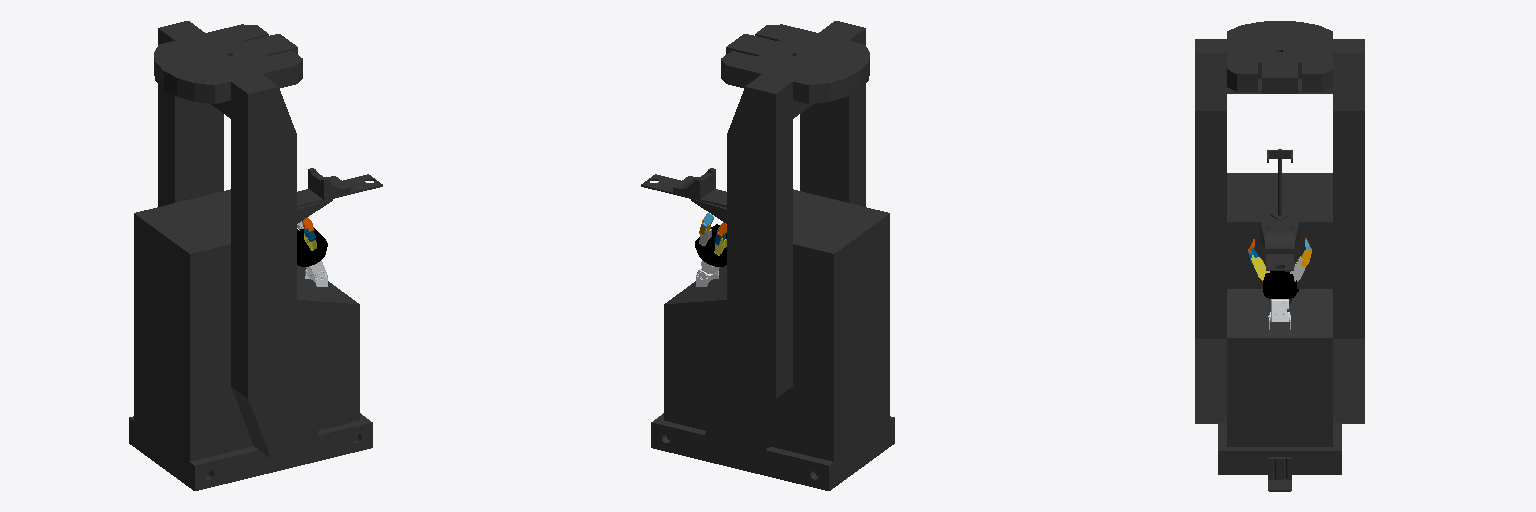
--- Facts derived from the render (not from the file) ---
Views: 3 orthographic renders of the robot side by side, from view 1: azimuth 30°, elevation 25°; view 2: azimuth 150°, elevation 25°; view 3: azimuth 270°, elevation 25°.
Model hera with 40 links and 39 joints (14 revolute, 25 fixed), rooted at base_footprint, posed all joints at 0.
Visible links, largest first — view 1: base_link, palm; view 2: base_link, palm; view 3: base_link, palm.
Link boxes in pixels (x1,y1,x2,y2): base_link: (129,21,382,490); palm: (297,228,327,266); base_link: (641,21,894,490); palm: (695,224,726,266); base_link: (1195,21,1364,491); palm: (1263,271,1298,298).
Bounding box of the posed robot: 0.596 × 0.436 × 1.07 m (x, y, z).
20 mesh visuals loaded from 24 distinct referenced files (7 binary STL, 5 Collada DAE); not drawn: 14 (reference not matched to a file when rendering).

The robot description file, URDF, robot "hera":
<?xml version="1.0" encoding="utf-8"?>
<!-- =================================================================================== -->
<!-- |    This document was autogenerated by xacro from hera_full.urdf.xacro           | -->
<!-- |    EDITING THIS FILE BY HAND IS NOT RECOMMENDED                                 | -->
<!-- =================================================================================== -->
<robot name="hera" xmlns:controller="http://playerstage.sourceforge.net/gazebo/xmlschema/#controller" xmlns:interface="http://playerstage.sourceforge.net/gazebo/xmlschema/#interface" xmlns:sensor="http://playerstage.sourceforge.net/gazebo/xmlschema/#sensor">
  <!-- <xacro:arg name="prefix" default="" /> -->
  <!-- ##################################################################### -->
  <!-- ######################### includes ################################## -->
  <!-- ##################################################################### -->
  <!-- colors -->
  <material name="black">
    <color rgba="0.0 0.0 0.0 1.0"/>
  </material>
  <material name="dark_grey">
    <color rgba="0.25 0.25 0.25 1.0"/>
  </material>
  <material name="grey">
    <color rgba="0.5 0.5 0.5 1.0"/>
  </material>
  <material name="light_grey">
    <color rgba="0.75 0.75 0.75 1.0"/>
  </material>
  <material name="white">
    <color rgba="1.0 1.0 1.0 1.0"/>
  </material>
  <!-- Macros -->
  <!-- hera colors -->
  <gazebo reference="base">
    <material>Gazebo/Black</material>
  </gazebo>
  <gazebo reference="base_wheelFR">
    <material>Gazebo/White</material>
  </gazebo>
  <gazebo reference="base_wheelFL">
    <material>Gazebo/White</material>
  </gazebo>
  <gazebo reference="base_wheelBR">
    <material>Gazebo/White</material>
  </gazebo>
  <gazebo reference="base_wheelBL">
    <material>Gazebo/White</material>
  </gazebo>
  <gazebo reference="torso">
    <material>Gazebo/DarkGray</material>
  </gazebo>
  <gazebo reference="torso_sensor_plat">
    <material>Gazebo/DarkGray</material>
  </gazebo>
  <gazebo reference="head">
    <material>Gazebo/Gray</material>
  </gazebo>
  <!-- manip colors -->
  <gazebo reference="base_link">
    <material>Gazebo/Gray</material>
  </gazebo>
  <gazebo reference="link_1">
    <material>Gazebo/Gray</material>
  </gazebo>
  <gazebo reference="link_2">
    <material>Gazebo/Gray</material>
  </gazebo>
  <gazebo reference="link_3">
    <material>Gazebo/Gray</material>
  </gazebo>
  <gazebo reference="link_4">
    <material>Gazebo/Gray</material>
  </gazebo>
  <gazebo reference="link_5">
    <material>Gazebo/Gray</material>
  </gazebo>
  <gazebo reference="link_6">
    <material>Gazebo/Gray</material>
  </gazebo>
  <gazebo reference="palm">
    <material>Gazebo/White</material>
  </gazebo>
  <gazebo reference="tool0">
    <material>Gazebo/White</material>
  </gazebo>
  <gazebo reference="finger_1_link_0">
    <material>Gazebo/White</material>
  </gazebo>
  <gazebo reference="finger_1_link_1">
    <material>Gazebo/White</material>
  </gazebo>
  <gazebo reference="finger_1_link_2">
    <material>Gazebo/White</material>
  </gazebo>
  <gazebo reference="finger_1_link_3">
    <material>Gazebo/White</material>
  </gazebo>
  <gazebo reference="finger_2_link_0">
    <material>Gazebo/White</material>
  </gazebo>
  <gazebo reference="finger_2_link_1">
    <material>Gazebo/White</material>
  </gazebo>
  <gazebo reference="finger_2_link_2">
    <material>Gazebo/White</material>
  </gazebo>
  <gazebo reference="finger_2_link_3">
    <material>Gazebo/White</material>
  </gazebo>
  <gazebo reference="finger_middle_link_0">
    <material>Gazebo/White</material>
  </gazebo>
  <gazebo reference="finger_middle_link_1">
    <material>Gazebo/White</material>
  </gazebo>
  <gazebo reference="finger_middle_link_2">
    <material>Gazebo/White</material>
  </gazebo>
  <gazebo reference="finger_middle_link_3">
    <material>Gazebo/White</material>
  </gazebo>
  <gazebo>
    <plugin filename="libgazebo_ros_control.so" name="gazebo_ros_control"/>
  </gazebo>
  <!-- ####################################################################### -->
  <!-- ######################## robot parts ################################## -->
  <!-- ####################################################################### -->
  <!-- footprint -->
  <link name="base_footprint"/>
  <joint name="joint_base_footprint_to_base" type="fixed">
    <origin xyz="0 0 0.1"/>
    <parent link="base_footprint"/>
    <child link="base"/>
  </joint>
  <!-- base -->
  <link name="base">
    <inertial>
      <mass value="100.0"/>
      <inertia ixx="0.790833333333" ixy="0.0" ixz="0.0" iyy="2.12416666667" iyz="0.0" izz="2.83333333333"/>
    </inertial>
    <collision name="collision">
      <origin rpy="0 0 0" xyz="0 0 0"/>
      <geometry>
        <box size="0.5 0.3 0.07"/>
      </geometry>
    </collision>
    <visual>
      <material name="black"/>
      <geometry>
        <mesh filename="package://hera_description/meshes/base.stl"/>
      </geometry>
    </visual>
  </link>
  <link name="base_wheelFR">
    <inertial>
      <mass value="2.5"/>
      <inertia ixx="0.00727083333333" ixy="0.0" ixz="0.0" iyy="0.00727083333333" iyz="0.0" izz="0.0125"/>
    </inertial>
    <collision name="collision">
      <origin rpy="1.57079632679 0 0" xyz="0 0 0"/>
      <geometry>
        <cylinder length="0.07" radius="0.1"/>
      </geometry>
    </collision>
    <visual>
      <origin rpy=" 0 0 -1.57079632679" xyz="0 -0.045 0"/>
      <material name="white"/>
      <geometry>
        <mesh filename="package://hera_description/meshes/wheelF.stl"/>
      </geometry>
    </visual>
    <inertial>
      <mass value="0.001"/>
      <inertia ixx="1e-08" ixy="0.0" ixz="0.0" iyy="1e-08" iyz="0.0" izz="1e-08"/>
    </inertial>
    <collision name="collision">
      <origin rpy="0 0 0" xyz="0 0 -0.1"/>
      <geometry>
        <sphere radius="0.005"/>
      </geometry>
    </collision>
    <!-- wheel suport -->
  </link>
  <!-- should be continuous. Change if you do not use wheel support -->
  <joint name="joint_base_to_base_wheelFR" type="fixed">
    <origin rpy="0 0 0" xyz="0.2 -0.205 0.0"/>
    <parent link="base"/>
    <child link="base_wheelFR"/>
    <!-- enable when joint type is continuous -->
    <!-- <axis xyz="0 1 0"/> -->
    <!-- <limit effort="${wheel_effort}" velocity="${wheel_velocity}"/> -->
  </joint>
  <link name="base_wheelFL">
    <inertial>
      <mass value="2.5"/>
      <inertia ixx="0.00727083333333" ixy="0.0" ixz="0.0" iyy="0.00727083333333" iyz="0.0" izz="0.0125"/>
    </inertial>
    <collision name="collision">
      <origin rpy="1.57079632679 0 0" xyz="0 0 0"/>
      <geometry>
        <cylinder length="0.07" radius="0.1"/>
      </geometry>
    </collision>
    <visual>
      <origin rpy=" 0 0 1.57079632679" xyz="0 0.045 0"/>
      <material name="white"/>
      <geometry>
        <mesh filename="package://hera_description/meshes/wheelF.stl"/>
      </geometry>
    </visual>
    <inertial>
      <mass value="0.001"/>
      <inertia ixx="1e-08" ixy="0.0" ixz="0.0" iyy="1e-08" iyz="0.0" izz="1e-08"/>
    </inertial>
    <collision name="collision">
      <origin rpy="0 0 0" xyz="0 0 -0.1"/>
      <geometry>
        <sphere radius="0.005"/>
      </geometry>
    </collision>
    <!-- wheel suport -->
  </link>
  <!-- should be continuous. Change if you do not use wheel support -->
  <joint name="joint_base_to_base_wheelFL" type="fixed">
    <origin rpy="0 0 0" xyz="0.2 0.205 0.0"/>
    <parent link="base"/>
    <child link="base_wheelFL"/>
    <!-- enable when joint type is continuous -->
    <!-- <axis xyz="0 1 0"/> -->
    <!-- <limit effort="${wheel_effort}" velocity="${wheel_velocity}"/> -->
  </joint>
  <link name="base_wheelBR">
    <inertial>
      <mass value="2.5"/>
      <inertia ixx="0.00727083333333" ixy="0.0" ixz="0.0" iyy="0.00727083333333" iyz="0.0" izz="0.0125"/>
    </inertial>
    <collision name="collision">
      <origin rpy="1.57079632679 0 0" xyz="0 0 0"/>
      <geometry>
        <cylinder length="0.07" radius="0.1"/>
      </geometry>
    </collision>
    <visual>
      <origin rpy="0 0 -1.57079632679" xyz="0 -0.045 0"/>
      <material name="white"/>
      <geometry>
        <mesh filename="package://hera_description/meshes/wheelB.stl"/>
      </geometry>
    </visual>
    <inertial>
      <mass value="0.001"/>
      <inertia ixx="1e-08" ixy="0.0" ixz="0.0" iyy="1e-08" iyz="0.0" izz="1e-08"/>
    </inertial>
    <collision name="collision">
      <origin rpy="0 0 0" xyz="0 0 -0.1"/>
      <geometry>
        <sphere radius="0.005"/>
      </geometry>
    </collision>
    <!-- wheel suport -->
  </link>
  <!-- should be continuous. Change if you do not use wheel support -->
  <joint name="joint_base_to_base_wheelBR" type="fixed">
    <origin rpy="0 0 0" xyz="-0.2 -0.205 0.0"/>
    <parent link="base"/>
    <child link="base_wheelBR"/>
    <!-- enable when joint type is continuous -->
    <!-- <axis xyz="0 1 0"/> -->
    <!-- <limit effort="${wheel_effort}" velocity="${wheel_velocity}"/> -->
  </joint>
  <link name="base_wheelBL">
    <inertial>
      <mass value="2.5"/>
      <inertia ixx="0.00727083333333" ixy="0.0" ixz="0.0" iyy="0.00727083333333" iyz="0.0" izz="0.0125"/>
    </inertial>
    <collision name="collision">
      <origin rpy="1.57079632679 0 0" xyz="0 0 0"/>
      <geometry>
        <cylinder length="0.07" radius="0.1"/>
      </geometry>
    </collision>
    <visual>
      <origin rpy="0 0 1.57079632679" xyz="0 0.045 0"/>
      <material name="white"/>
      <geometry>
        <mesh filename="package://hera_description/meshes/wheelB.stl"/>
      </geometry>
    </visual>
    <inertial>
      <mass value="0.001"/>
      <inertia ixx="1e-08" ixy="0.0" ixz="0.0" iyy="1e-08" iyz="0.0" izz="1e-08"/>
    </inertial>
    <collision name="collision">
      <origin rpy="0 0 0" xyz="0 0 -0.1"/>
      <geometry>
        <sphere radius="0.005"/>
      </geometry>
    </collision>
    <!-- wheel suport -->
  </link>
  <!-- should be continuous. Change if you do not use wheel support -->
  <joint name="joint_base_to_base_wheelBL" type="fixed">
    <origin rpy="0 0 0" xyz="-0.2 0.205 0.0"/>
    <parent link="base"/>
    <child link="base_wheelBL"/>
    <!-- enable when joint type is continuous -->
    <!-- <axis xyz="0 1 0"/> -->
    <!-- <limit effort="${wheel_effort}" velocity="${wheel_velocity}"/> -->
  </joint>
  <!-- torso -->
  <link name="torso">
    <inertial>
      <mass value="1.0"/>
      <inertia ixx="0.0327083333333" ixy="0.0" ixz="0.0" iyy="0.0327083333333" iyz="0.0" izz="0.015"/>
    </inertial>
    <collision name="collision">
      <origin rpy="0 0 0" xyz="-0.1 0 -0.225"/>
      <geometry>
        <box size="0.3 0.3 0.55"/>
      </geometry>
    </collision>
    <inertial>
      <mass value="0.5"/>
      <inertia ixx="0.0075" ixy="0.0" ixz="0.0" iyy="0.00541666666667" iyz="0.0" izz="0.00541666666667"/>
    </inertial>
    <collision name="collision">
      <origin rpy="0 0 0" xyz="0.15 0 -0.35"/>
      <geometry>
        <box size="0.2 0.3 0.3"/>
      </geometry>
    </collision>
    <inertial>
      <mass value="0.1"/>
      <inertia ixx="0.000770833333333" ixy="0.0" ixz="0.0" iyy="0.00104166666667" iyz="0.0" izz="0.00177083333333"/>
    </inertial>
    <collision name="collision">
      <origin rpy="0 0 0" xyz="-0.06 0 0.475"/>
      <geometry>
        <box size="0.35 0.3 0.05"/>
      </geometry>
    </collision>
    <inertial>
      <mass value="0.2"/>
      <inertia ixx="0.0167266666667" ixy="0.0" ixz="0.0" iyy="0.0169483333333" iyz="0.0" izz="0.000341666666667"/>
    </inertial>
    <collision name="collision">
      <origin rpy="0 0 0" xyz="-0.06 -0.18 0"/>
      <geometry>
        <box size="0.13 0.06 1.0"/>
      </geometry>
    </collision>
    <inertial>
      <mass value="0.2"/>
      <inertia ixx="0.0167266666667" ixy="0.0" ixz="0.0" iyy="0.0169483333333" iyz="0.0" izz="0.000341666666667"/>
    </inertial>
    <collision name="collision">
      <origin rpy="0 0 0" xyz="-0.06 0.18 0"/>
      <geometry>
        <box size="0.13 0.06 1.0"/>
      </geometry>
    </collision>
    <visual>
      <origin rpy="0 0 0" xyz="0 0 -0.5"/>
      <material name="dark_grey"/>
      <geometry>
        <mesh filename="package://hera_description/meshes/torso.stl"/>
      </geometry>
    </visual>
    <collision>
      <origin rpy="0 0 0" xyz="0 0 -0.5"/>
      <material name="dark_grey"/>
      <geometry>
        <mesh filename="package://hera_description/meshes/torso.stl"/>
      </geometry>
    </collision>
  </link>
  <!-- sensor plat -->
  <link name="torso_sensor_plat">
    <inertial>
      <mass value="1.0"/>
      <inertia ixx="0.00120833333333" ixy="0.0" ixz="0.0" iyy="0.000841666666667" iyz="0.0" izz="0.00203333333333"/>
    </inertial>
    <collision name="collision">
      <origin rpy="0 0 0" xyz="0 0 0.05"/>
      <geometry>
        <box size="0.1 0.12 0.01"/>
      </geometry>
    </collision>
    <visual>
      <origin rpy="0 0 0" xyz="0.2 0 -0.2"/>
      <material name="dark_grey"/>
      <geometry>
        <mesh filename="package://hera_description/meshes/torso_sensor_plat.stl"/>
      </geometry>
    </visual>
  </link>
  <joint name="joint_base_to_torso" type="fixed">
    <origin rpy="0 0 0" xyz="0 0 0.535"/>
    <parent link="base"/>
    <child link="torso"/>
  </joint>
  <!-- should be revolute -->
  <joint name="joint_torso_to_torso_sensor_plat" type="revolute">
    <origin rpy="0 0 0" xyz="0.09 0 0.46"/>
    <!-- rpy="0 0 0" -->
    <parent link="torso"/>
    <child link="torso_sensor_plat"/>
    <axis xyz="0 1 0"/>
     --&gt;
      
    <limit effort="30" lower="0.0" upper="1.57" velocity="0.5"/>
  </joint>
  <!-- Transmission to Gazebo Plugin -->
  <transmission name="trans_kinect">
    <type>transmission_interface/SimpleTransmission</type>
    <joint name="joint_torso_to_torso_sensor_plat">
      <hardwareInterface>hardware_interface/EffortJointInterface</hardwareInterface>
    </joint>
    <actuator name="kinect_motor">
      <hardwareInterface>hardware_interface/EffortJointInterface</hardwareInterface>
      <mechanicalReduction>1</mechanicalReduction>
    </actuator>
  </transmission>
  <!-- head -->
  <link name="head">
    <inertial>
      <mass value="0.01"/>
      <inertia ixx="1.35625e-05" ixy="0.0" ixz="0.0" iyy="1.35625e-05" iyz="0.0" izz="2.1125e-05"/>
    </inertial>
    <collision name="collision">
      <origin rpy="0 0 0" xyz="0 0 -0.165"/>
      <geometry>
        <cylinder length="0.06" radius="0.065"/>
      </geometry>
    </collision>
    <inertial>
      <mass value="0.02"/>
      <inertia ixx="0.000188166666667" ixy="0.0" ixz="0.0" iyy="0.000138166666667" iyz="0.0" izz="8.33333333333e-05"/>
    </inertial>
    <collision name="collision">
      <origin rpy="0 0 0" xyz="0 0 0"/>
      <geometry>
        <box size="0.1 0.2 0.27"/>
      </geometry>
    </collision>
    <inertial>
      <mass value="0.01"/>
      <inertia ixx="2.50833333333e-05" ixy="0.0" ixz="0.0" iyy="2.50833333333e-05" iyz="0.0" izz="2e-06"/>
    </inertial>
    <collision name="collision">
      <origin rpy="0 1.45 0" xyz="0.04 -0.13 0.05"/>
      <geometry>
        <cylinder length="0.17" radius="0.02"/>
      </geometry>
    </collision>
    <inertial>
      <mass value="0.01"/>
      <inertia ixx="2.50833333333e-05" ixy="0.0" ixz="0.0" iyy="2.50833333333e-05" iyz="0.0" izz="2e-06"/>
    </inertial>
    <collision name="collision">
      <origin rpy="0 1.45 0" xyz="0.04 0.13 0.05"/>
      <geometry>
        <cylinder length="0.17" radius="0.02"/>
      </geometry>
    </collision>
    <visual>
      <origin rpy="0 0 0" xyz="0 0 -0.195"/>
      <material name="grey"/>
      <geometry>
        <mesh filename="package://hera_description/meshes/head.stl"/>
      </geometry>
    </visual>
  </link>
  <joint name="joint_torso_to_head" type="revolute">
    <origin rpy="0 0 0" xyz="-0.06 0 0.695"/>
    <child link="head"/>
    <parent link="torso"/>
    <axis xyz="0 0 1"/>
    <limit effort="30" lower="-1.57079632679" upper="1.57079632679" velocity="0.5"/>
  </joint>
  <transmission name="tran_head">
    <type>transmission_interface/SimpleTransmission</type>
    <joint name="joint_torso_to_head">
      <hardwareInterface>hardware_interface/EffortJointInterface</hardwareInterface>
    </joint>
    <actuator name="motor_head">
      <hardwareInterface>hardware_interface/EffortJointInterface</hardwareInterface>
      <mechanicalReduction>1</mechanicalReduction>
    </actuator>
  </transmission>
  <link name="base_scan_front" type="laser">
    <inertial>
      <mass value="0.01"/>
      <inertia ixx="9.75e-06" ixy="0.0" ixz="0.0" iyy="9.75e-06" iyz="0.0" izz="6e-06"/>
    </inertial>
    <collision name="collision">
      <origin rpy="0 0 0" xyz="0 0 0"/>
      <geometry>
        <box size="0.06 0.06 0.09"/>
      </geometry>
    </collision>
    <visual>
      <origin rpy="1.57079632679 0 0" xyz="0 0 0"/>
      <geometry>
        <mesh filename="package://hera_description/meshes/hokuyo_utm.stl"/>
      </geometry>
    </visual>
  </link>
  <joint name="base_scan_front_hokuyo_utm_joint" type="fixed">
    <origin rpy="0 0 0" xyz="0.3 0 0.01"/>
    <parent link="base"/>
    <child link="base_scan_front"/>
  </joint>
  <link name="base_scan_back" type="laser">
    <inertial>
      <mass value="0.01"/>
      <inertia ixx="6.16666666667e-06" ixy="0.0" ixz="0.0" iyy="6.16666666667e-06" iyz="0.0" izz="4.16666666667e-06"/>
    </inertial>
    <collision name="collision">
      <origin rpy="0 0 0" xyz="0 0 0"/>
      <geometry>
        <box size="0.05 0.05 0.07"/>
      </geometry>
    </collision>
    <visual>
      <origin rpy="0 0 0" xyz="0 0 0"/>
      <geometry>
        <mesh filename="package://hera_description/meshes/hokuyo_urg.dae"/>
      </geometry>
    </visual>
  </link>
  <joint name="joint_base_to_base_scan_back_hokuyo_urg" type="fixed">
    <origin rpy="0 0 3.14159265359" xyz="-0.3 0 0.01"/>
    <parent link="base"/>
    <child link="base_scan_back"/>
  </joint>
  <!-- xtion -->
  <link name="xtion">
    <inertial>
      <mass value="0.01"/>
      <inertia ixx="3.10833333333e-05" ixy="0.0" ixz="0.0" iyy="5.41666666667e-06" iyz="0.0" izz="2.83333333333e-05"/>
    </inertial>
    <collision name="collision">
      <origin rpy="0 0 0" xyz="0 0 0"/>
      <geometry>
        <box size="0.04 0.18 0.07"/>
      </geometry>
    </collision>
    <visual>
      <origin rpy="1.57079632679 0.0 1.57079632679" xyz="0.02 0.025 0"/>
      <geometry>
        <mesh filename="package://hera_description/meshes/asus_xtion.stl"/>
      </geometry>
    </visual>
  </link>
  <joint name="joint_torso_to_xtion" type="fixed">
    <origin rpy="0 0 0" xyz="0.1 0 -0.14"/>
    <parent link="torso"/>
    <child link="xtion"/>
  </joint>
  <link name="xtion_depth"/>
  <joint name="joint_xtion_to_xtion_depth" type="fixed">
    <origin rpy="0 0 0" xyz="0.0 0.049 0.016"/>
    <parent link="xtion"/>
    <child link="xtion_depth"/>
  </joint>
  <link name="xtion_optical"/>
  <joint name="joint_xtion_to_xtion_otptical" type="fixed">
    <origin rpy="-1.57079632679 0 -1.57079632679" xyz="0 0 0"/>
    <parent link="xtion"/>
    <child link="xtion_optical"/>
  </joint>
  <!-- kinect_one -->
  <link name="kinect_one">
    <inertial>
      <mass value="0.01"/>
      <inertia ixx="6.66666666667e-05" ixy="0.0" ixz="0.0" iyy="5.41666666667e-06" iyz="0.0" izz="6.94166666667e-05"/>
    </inertial>
    <collision name="collision">
      <origin rpy="0 0 0" xyz="-0.03 0 0"/>
      <geometry>
        <box size="0.07 0.28 0.04"/>
      </geometry>
    </collision>
    <visual>
      <origin rpy="0.0 0.0 0.0" xyz="0 -0.01 0"/>
      <geometry>
        <mesh filename="package://hera_description/meshes/kinect_one.stl"/>
      </geometry>
    </visual>
  </link>
  <joint name="joint_torso_sensor_plat_to_kinect_one" type="fixed">
    <origin rpy="0 0 0" xyz="0.05 0 0.1"/>
    <parent link="torso_sensor_plat"/>
    <child link="kinect_one"/>
  </joint>
  <link name="kinect_one_depth"/>
  <joint name="$joint_kinect_one_to_kinect_one_depth" type="fixed">
    <origin rpy="0 0 0" xyz="0.0 -0.049 0.0"/>
    <parent link="kinect_one"/>
    <child link="kinect_one_depth"/>
  </joint>
  <link name="kinect_one_optical"/>
  <joint name="joint_kinect_one_to_kinect_one_otptical" type="fixed">
    <origin rpy="-1.57079632679 0 -1.57079632679" xyz="0 0 0"/>
    <parent link="kinect_one"/>
    <child link="kinect_one_optical"/>
  </joint>
  <link name="suporte_link">
    <visual>
      <origin rpy="0 0 0" xyz="0 0 0"/>
      <geometry>
        <mesh filename="package://hera_description/meshes/manip_meshes/suporte_link.STL"/>
      </geometry>
      <material name="grey">
        <color rgba="0.792156862745098 0.819607843137255 0.933333333333333 1"/>
      </material>
    </visual>
    <collision>
      <origin rpy="0 0 0" xyz="0 0 0"/>
      <geometry>
        <mesh filename="package://hera_description/meshes/manip_meshes/suporte_link.STL"/>
      </geometry>
    </collision>
    <inertial>
      <origin rpy="0 0 0" xyz="0.099437810671345 2.00188811166901E-07 0.0198713294048926"/>
      <mass value="0.65921714068"/>
      <inertia ixx="0.000498685766551954" ixy="4.35797776215065E-09" ixz="-0.000221629766113691" iyy="0.00233391280566028" iyz="5.90356892037055E-09" izz="0.00260971250229957"/>
    </inertial>
  </link>
  <!--suporte_joint-->
  <joint name="suporte_joint" type="fixed">
    <origin rpy="0 0 0" xyz="0.04525 0 0.0285"/>
    <parent link="torso"/>
    <child link="suporte_link"/>
    <axis xyz="0 0 0"/>
    <limit effort="0" lower="0" upper="0" velocity="0"/>
  </joint>
  <link name="encosto_link">
    <visual>
      <origin rpy="0 0 0" xyz="0 0 0"/>
      <geometry>
        <mesh filename="package://hera_description/meshes/manip_meshes/encosto_link.STL"/>
      </geometry>
      <material name="grey">
        <color rgba="0.898039215686275 0.917647058823529 0.929411764705882 1"/>
      </material>
    </visual>
    <collision>
      <origin rpy="0 0 0" xyz="0 0 0"/>
      <geometry>
        <mesh filename="package://hera_description/meshes/manip_meshes/encosto_link.STL"/>
      </geometry>
    </collision>
    <inertial>
      <origin rpy="0 0 0" xyz="0.00030938336056912 -9.89895665437501E-13 0.0229511892881233"/>
      <mass value="0.0709912944889"/>
      <inertia ixx="5.65453718592828E-05" ixy="5.00162232371705E-16" ixz="-1.38639831470138E-06" iyy="0.000101241328443196" iyz="-3.18870100704921E-15" izz="8.47747908239031E-05"/>
    </inertial>
  </link>
  <!--encosto_joint-->
  <joint name="encosto_joint" type="fixed">
    <origin rpy="0 0 0" xyz="0.028 0.0066709 0.053"/>
    <parent link="torso"/>
    <child link="encosto_link"/>
    <axis xyz="0 0 0"/>
    <limit effort="0" velocity="0"/>
  </joint>
  <link name="base_link">
    <visual>
      <origin rpy="0 0 0" xyz="0 0 0"/>
      <geometry>
        <mesh filename="package://hera_description/meshes/manip_meshes/base_link.STL"/>
      </geometry>
      <material name="dark_grey">        
        </material>
    </visual>
    <collision>
      <origin rpy="0 0 0" xyz="0 0 0"/>
      <geometry>
        <mesh filename="package://hera_description/meshes/manip_meshes/base_link.STL"/>
      </geometry>
    </collision>
    <inertial>
      <origin rpy="0 0 0" xyz="0.00030938336056912 -9.89895665437501E-13 0.0229511892881233"/>
      <mass value="0.225814419605"/>
      <inertia ixx="5.65453718592828E-05" ixy="5.00162232371705E-16" ixz="-1.38639831470138E-06" iyy="0.000101241328443196" iyz="-3.18870100704921E-15" izz="8.47747908239031E-05"/>
    </inertial>
  </link>
  <!--base_joint-->
  <joint name="base_joint" type="fixed">
    <origin rpy="0 0 0" xyz="0.27075 0 0.0295"/>
    <parent link="suporte_link"/>
    <child link="base_link"/>
    <axis xyz="0 0 0"/>
    <limit effort="0" lower="0" upper="0" velocity="0"/>
  </joint>
  <link name="link_1">
    <visual>
      <origin rpy="0 0 0" xyz="0 0 0"/>
      <geometry>
        <mesh filename="package://hera_description/meshes/manip_meshes/link_1.STL"/>
      </geometry>
      <material name="dark_grey">
        <color rgba="0.996078431372549 0.996078431372549 1 1"/>
      </material>
    </visual>
    <collision>
      <origin rpy="0 0 0" xyz="0 0 0"/>
      <geometry>
        <mesh filename="package://hera_description/meshes/manip_meshes/link_1.STL"/>
      </geometry>
    </collision>
    <inertial>
      <origin rpy="0 0 0" xyz="0.010403379929175 1.63335446591584E-08 0.0169657675518438"/>
      <mass value="0.0289102664623"/>
      <inertia ixx="2.12284942933575E-05" ixy="2.48129475489142E-12" ixz="-1.76897405605609E-06" iyy="1.25993311294143E-05" iyz="3.2054762687646E-12" izz="2.59552674841784E-05"/>
    </inertial>
  </link>
  <!--joint_1-->
  <joint name="joint_1" type="revolute">
    <origin rpy="0 0 0" xyz="0.0155 0 0.04515"/>
    <parent link="base_link"/>
    <child link="link_1"/>
    <axis xyz="0 0 1"/>
    <limit effort="8" lower="-3.14" upper="3.14" velocity="5"/>
  </joint>
  <link name="link_2">
    <visual>
      <origin rpy="0 0 0" xyz="0 0 0"/>
      <geometry>
        <mesh filename="package://hera_description/meshes/manip_meshes/link_2.STL"/>
      </geometry>
      <material name="dark_grey">
        <color rgba="0.898039215686275 0.917647058823529 0.929411764705882 1"/>
      </material>
    </visual>
    <collision>
      <origin rpy="0 0 0" xyz="0 0 0"/>
      <geometry>
        <mesh filename="package://hera_description/meshes/manip_meshes/link_2_col.STL"/>
      </geometry>
    </collision>
    <inertial>
      <origin rpy="0 0 0" xyz="0.010403379929175 1.63335446591584E-08 0.0169657675518438"/>
      <mass value="0.611796741663"/>
      <inertia ixx="2.12284942933575E-05" ixy="2.48129475489142E-12" ixz="-1.76897405605609E-06" iyy="1.25993311294143E-05" iyz="3.2054762687646E-12" izz="2.59552674841784E-05"/>
    </inertial>
  </link>
  <!--joint_2-->
  <joint name="joint_2" type="revolute">
    <origin rpy="3.1416 -2 -3.1416" xyz="0.048 0 0.02285"/>
    <parent link="link_1"/>
    <child link="link_2"/>
    <axis xyz="0 1 0"/>
    <limit effort="8" lower="-2.355" upper="3.14" velocity="5"/>
  </joint>
  <link name="link_3">
    <visual>
      <origin rpy="0 0 0" xyz="0 0 0"/>
      <geometry>
        <mesh filename="package://hera_description/meshes/manip_meshes/link_3.STL"/>
      </geometry>
      <material name="dark_grey">
        <color rgba="0.996078431372549 0.996078431372549 1 1"/>
      </material>
    </visual>
    <collision>
      <origin rpy="0 0 0" xyz="0 0 0"/>
      <geometry>
        <mesh filename="package://hera_description/meshes/manip_meshes/link_3_col.STL"/>
      </geometry>
    </collision>
    <inertial>
      <origin rpy="0 0 0" xyz="0.010403379929175 1.63335446591584E-08 0.0169657675518438"/>
      <mass value="0.0289102660424"/>
      <inertia ixx="2.12284942933575E-05" ixy="2.48129475489142E-12" ixz="-1.76897405605609E-06" iyy="1.25993311294143E-05" iyz="3.2054762687646E-12" izz="2.59552674841784E-05"/>
    </inertial>
  </link>
  <!--joint_3-->
  <joint name="joint_3" type="revolute">
    <origin rpy="0 0 0" xyz="0.1439 0 0"/>
    <parent link="link_2"/>
    <child link="link_3"/>
    <axis xyz="1 0 0"/>
    <limit effort="8" lower="-3.14" upper="3.14" velocity="5"/>
  </joint>
  <link name="link_4">
    <visual>
      <origin rpy="0 0 0" xyz="0 0 0"/>
      <geometry>
        <mesh filename="package://hera_description/meshes/manip_meshes/link_4.STL"/>
      </geometry>
      <material name="dark_grey">
        <color rgba="0.898039215686275 0.917647058823529 0.929411764705882 1"/>
      </material>
    </visual>
    <collision>
      <origin rpy="0 0 0" xyz="0 0 0"/>
      <geometry>
        <mesh filename="package://hera_description/meshes/manip_meshes/link_4_col.STL"/>
      </geometry>
    </collision>
    <inertial>
      <origin rpy="0 0 0" xyz="0.010403379929175 1.63335446591584E-08 0.0169657675518438"/>
      <mass value="0.611796742119"/>
      <inertia ixx="2.12284942933575E-05" ixy="2.48129475489142E-12" ixz="-1.76897405605609E-06" iyy="1.25993311294143E-05" iyz="3.2054762687646E-12" izz="2.59552674841784E-05"/>
    </inertial>
  </link>
  <!--joint_4-->
  <joint name="joint_4" type="revolute">
    <origin rpy="0 -0.3927 0" xyz="0.02285 0 -0.048"/>
    <parent link="link_3"/>
    <child link="link_4"/>
    <axis xyz="0 -1 0"/>
    <limit effort="8" lower="-3.14" upper="1.0078" velocity="5"/>
  </joint>
  <link name="link_5">
    <visual>
      <origin rpy="0 0 0" xyz="0 0 0"/>
      <geometry>
        <mesh filename="package://hera_description/meshes/manip_meshes/link_5.STL"/>
      </geometry>
      <material name="dark_grey">
        <color rgba="0.898039215686275 0.917647058823529 0.929411764705882 1"/>
      </material>
    </visual>
    <collision>
      <origin rpy="0 0 0" xyz="0 0 0"/>
      <geometry>
        <mesh filename="package://hera_description/meshes/manip_meshes/link_5_col.STL"/>
      </geometry>
    </collision>
    <inertial>
      <origin rpy="0 0 0" xyz="0.0113429838803915 -3.46944695195361E-18 0"/>
      <mass value="0.0368976416562"/>
      <inertia ixx="1.95927087211338E-05" ixy="7.26329421268603E-21" ixz="-2.5410988417629E-21" iyy="7.36984687037621E-06" iyz="8.60646127431738E-21" izz="2.02402124370273E-05"/>
    </inertial>
  </link>
  <!--joint_5-->
  <joint name="joint_5" type="revolute">
    <origin rpy="0 0 0" xyz="0.1439 0 0"/>
    <parent link="link_4"/>
    <child link="link_5"/>
    <axis xyz="1 0 0"/>
    <limit effort="8" lower="-3.14" upper="3.14" velocity="5"/>
  </joint>
  <link name="link_6">
    <visual>
      <origin rpy="0 0 0" xyz="0 0 0"/>
      <geometry>
        <mesh filename="package://hera_description/meshes/manip_meshes/link_6.STL" scale="0.1 0.1 0.1"/>
      </geometry>
      <material name="dark_grey">
        <color rgba="0.898039215686275 0.917647058823529 0.929411764705882 1"/>
      </material>
    </visual>
    <collision>
      <origin rpy="0 0 0" xyz="0 0 0"/>
      <geometry>
        <mesh filename="package://hera_description/meshes/manip_meshes/link_6_col.STL" scale="0.1 0.1 0.1"/>
      </geometry>
    </collision>
    <inertial>
      <origin rpy="0 0 0" xyz="0.0386040770329412 -0.000322583154717528 0.000293719089379529"/>
      <mass value="0.482627734526"/>
      <inertia ixx="0.000146386226397184" ixy="-4.37085473836754E-07" ixz="-1.5900787088928E-13" iyy="0.000125206462596505" iyz="-1.1391259066856E-12" izz="0.000181710835049005"/>
    </inertial>
  </link>
  <!--joint_6-->
  <joint name="joint_6" type="revolute">
    <origin rpy="0 -0.3927 0" xyz="0.03885 0 0"/>
    <parent link="link_5"/>
    <child link="link_6"/>
    <axis xyz="0 -1 0"/>
    <limit effort="8" lower="-2.6232" upper="1.8262" velocity="5"/>
  </joint>
  <!-- link list -->
  <link name="finger_1_link_0">
    <visual>
      <origin rpy="0 0 0" xyz="0.020 0 0"/>
      <geometry>
        <mesh filename="package://hera_description/meshes/gripper_meshes/visual/link_0.dae" scale="0.7 0.7 0.7"/>
      </geometry>
      <material name="white">
        <color rgba="0 0 0 1"/>
      </material>
    </visual>
    <collision>
      <origin rpy="0 0 0" xyz="0.020 0 0"/>
      <geometry>
        <mesh filename="package://hera_description/meshes/gripper_meshes/collision/link_0.STL" scale="0.7 0.7 0.7"/>
      </geometry>
      <material name="yellow">
        <color rgba="0 1 1 1"/>
      </material>
    </collision>
    <inertial>
      <origin rpy="0 0 0" xyz="0 0 0"/>
      <mass value="0.05"/>
      <inertia ixx="0.01" ixy="-0.00002" ixz="0.00001" iyy="0.0008" iyz="0" izz="0.001"/>
    </inertial>
  </link>
  <link name="finger_1_link_1">
    <visual>
      <origin rpy="0 0 -0.52" xyz="0.050 -.028 0"/>
      <geometry>
        <mesh filename="package://hera_description/meshes/gripper_meshes/visual/link_1.dae" scale="0.7 0.7 0.7"/>
      </geometry>
      <material name="light grey"/>
    </visual>
    <collision>
      <origin rpy="0 0 -0.52" xyz="0.050 -.028 0"/>
      <geometry>
        <mesh filename="package://hera_description/meshes/gripper_meshes/collision/link_1.STL" scale="0.7 0.7 0.7"/>
      </geometry>
      <material name="yellow"/>
    </collision>
    <inertial>
      <origin rpy="0 0 0" xyz="0 0 0"/>
      <mass value="0.15"/>
      <inertia ixx="0.001859" ixy="-0.000376" ixz="0.000028" iyy="0.012756" iyz="0" izz="0.0024"/>
    </inertial>
  </link>
  <link name="finger_1_link_2">
    <!--
			NOTE: This link has an offset in the z-direction based on the models that were
			used to generate grap-it poses.  With the offset below the model appears visually
			correct, but it is suspect.
			-->
    <visual>
      <origin rpy="0 0 0" xyz="0.039 0 0.0075"/>
      <geometry>
        <mesh filename="package://hera_description/meshes/gripper_meshes/visual/link_2.dae" scale="0.7 0.7 0.7"/>
      </geometry>
      <material name="light grey"/>
    </visual>
    <collision>
      <origin rpy="0 0 0" xyz="0.039 0 0.0075"/>
      <geometry>
        <mesh filename="package://hera_description/meshes/gripper_meshes/collision/link_2.STL" scale="0.7 0.7 0.7"/>
      </geometry>
      <material name="yellow"/>
    </collision>
    <inertial>
      <origin rpy="0 0 0" xyz="0 0 0"/>
      <mass value="0.15"/>
      <inertia ixx="0.001859" ixy="-0.000376" ixz="0.000028" iyy="0.012756" iyz="0" izz="0.0024"/>
    </inertial>
  </link>
  <link name="finger_1_link_3">
    <visual>
      <origin rpy="0 0 0.52" xyz="0 0 0"/>
      <geometry>
        <mesh filename="package://hera_description/meshes/gripper_meshes/visual/link_3.dae" scale="0.7 0.7 0.7"/>
      </geometry>
      <material name="light grey"/>
    </visual>
    <collision>
      <origin rpy="0 0 0.52" xyz="0 0 0"/>
      <geometry>
        <mesh filename="package://hera_description/meshes/gripper_meshes/collision/link_3.STL" scale="0.7 0.7 0.7"/>
      </geometry>
      <material name="yellow"/>
    </collision>
    <inertial>
      <origin rpy="0 0 0" xyz="0 0 0"/>
      <mass value="0.05"/>
      <inertia ixx="0.001239" ixy="-0.000251" ixz="0.000019" iyy="0.00085" iyz="0" izz="0.001632"/>
    </inertial>
  </link>
  <!-- end of link list -->
  <!-- joint list -->
  <joint name="finger_1_joint_1" type="revolute">
    <parent link="finger_1_link_0"/>
    <child link="finger_1_link_1"/>
    <axis xyz="0 0 1"/>
    <origin rpy="0 0 0" xyz="0.01 0.0 0"/>
    <limit effort="100" lower="-0.6503" upper="1.0" velocity="100"/>
  </joint>
  <joint name="finger_1_joint_2" type="revolute">
    <parent link="finger_1_link_1"/>
    <child link="finger_1_link_2"/>
    <axis xyz="0 0 1"/>
    <origin rpy="0 0 -0.52" xyz="0.04 -0.025 0"/>
    <limit effort="100" lower="-0.2787" upper="1.0" velocity="100"/>
  </joint>
  <joint name="finger_1_joint_3" type="fixed">
    <parent link="finger_1_link_2"/>
    <child link="finger_1_link_3"/>
    <axis xyz="0 0 1"/>
    <origin rpy="0 0 0" xyz="0.039 0 0"/>
  </joint>
  <!-- end of joint list -->
  <!-- link list -->
  <link name="finger_2_link_0">
    <visual>
      <origin rpy="0 0 0" xyz="0.020 0 0"/>
      <geometry>
        <mesh filename="package://hera_description/meshes/gripper_meshes/visual/link_0.dae" scale="0.7 0.7 0.7"/>
      </geometry>
      <material name="white">
        <color rgba="0 0 0 1"/>
      </material>
    </visual>
    <collision>
      <origin rpy="0 0 0" xyz="0.020 0 0"/>
      <geometry>
        <mesh filename="package://hera_description/meshes/gripper_meshes/collision/link_0.STL" scale="0.7 0.7 0.7"/>
      </geometry>
      <material name="yellow">
        <color rgba="0 1 1 1"/>
      </material>
    </collision>
    <inertial>
      <origin rpy="0 0 0" xyz="0 0 0"/>
      <mass value="0.05"/>
      <inertia ixx="0.01" ixy="-0.00002" ixz="0.00001" iyy="0.0008" iyz="0" izz="0.001"/>
    </inertial>
  </link>
  <link name="finger_2_link_1">
    <visual>
      <origin rpy="0 0 -0.52" xyz="0.050 -.028 0"/>
      <geometry>
        <mesh filename="package://hera_description/meshes/gripper_meshes/visual/link_1.dae" scale="0.7 0.7 0.7"/>
      </geometry>
      <material name="light grey"/>
    </visual>
    <collision>
      <origin rpy="0 0 -0.52" xyz="0.050 -.028 0"/>
      <geometry>
        <mesh filename="package://hera_description/meshes/gripper_meshes/collision/link_1.STL" scale="0.7 0.7 0.7"/>
      </geometry>
      <material name="yellow"/>
    </collision>
    <inertial>
      <origin rpy="0 0 0" xyz="0 0 0"/>
      <mass value="0.15"/>
      <inertia ixx="0.001859" ixy="-0.000376" ixz="0.000028" iyy="0.012756" iyz="0" izz="0.0024"/>
    </inertial>
  </link>
  <link name="finger_2_link_2">
    <!--
			NOTE: This link has an offset in the z-direction based on the models that were
			used to generate grap-it poses.  With the offset below the model appears visually
			correct, but it is suspect.
			-->
    <visual>
      <origin rpy="0 0 0" xyz="0.039 0 0.0075"/>
      <geometry>
        <mesh filename="package://hera_description/meshes/gripper_meshes/visual/link_2.dae" scale="0.7 0.7 0.7"/>
      </geometry>
      <material name="light grey"/>
    </visual>
    <collision>
      <origin rpy="0 0 0" xyz="0.039 0 0.0075"/>
      <geometry>
        <mesh filename="package://hera_description/meshes/gripper_meshes/collision/link_2.STL" scale="0.7 0.7 0.7"/>
      </geometry>
      <material name="yellow"/>
    </collision>
    <inertial>
      <origin rpy="0 0 0" xyz="0 0 0"/>
      <mass value="0.15"/>
      <inertia ixx="0.001859" ixy="-0.000376" ixz="0.000028" iyy="0.012756" iyz="0" izz="0.0024"/>
    </inertial>
  </link>
  <link name="finger_2_link_3">
    <visual>
      <origin rpy="0 0 0.52" xyz="0 0 0"/>
      <geometry>
        <mesh filename="package://hera_description/meshes/gripper_meshes/visual/link_3.dae" scale="0.7 0.7 0.7"/>
      </geometry>
      <material name="light grey"/>
    </visual>
    <collision>
      <origin rpy="0 0 0.52" xyz="0 0 0"/>
      <geometry>
        <mesh filename="package://hera_description/meshes/gripper_meshes/collision/link_3.STL" scale="0.7 0.7 0.7"/>
      </geometry>
      <material name="yellow"/>
    </collision>
    <inertial>
      <origin rpy="0 0 0" xyz="0 0 0"/>
      <mass value="0.05"/>
      <inertia ixx="0.001239" ixy="-0.000251" ixz="0.000019" iyy="0.00085" iyz="0" izz="0.001632"/>
    </inertial>
  </link>
  <!-- end of link list -->
  <!-- joint list -->
  <joint name="finger_2_joint_1" type="revolute">
    <parent link="finger_2_link_0"/>
    <child link="finger_2_link_1"/>
    <axis xyz="0 0 1"/>
    <origin rpy="0 0 0" xyz="0.01 0.0 0"/>
    <limit effort="100" lower="-0.6503" upper="1.0" velocity="100"/>
  </joint>
  <joint name="finger_2_joint_2" type="revolute">
    <parent link="finger_2_link_1"/>
    <child link="finger_2_link_2"/>
    <axis xyz="0 0 1"/>
    <origin rpy="0 0 -0.52" xyz="0.04 -0.025 0"/>
    <limit effort="100" lower="-0.2787" upper="1.0" velocity="100"/>
  </joint>
  <joint name="finger_2_joint_3" type="fixed">
    <parent link="finger_2_link_2"/>
    <child link="finger_2_link_3"/>
    <axis xyz="0 0 1"/>
    <origin rpy="0 0 0" xyz="0.039 0 0"/>
  </joint>
  <!-- end of joint list -->
  <!-- link list -->
  <link name="finger_middle_link_0">
    <visual>
      <origin rpy="0 0 0" xyz="0.020 0 0"/>
      <geometry>
        <mesh filename="package://hera_description/meshes/gripper_meshes/visual/link_0.dae" scale="0.7 0.7 0.7"/>
      </geometry>
      <material name="white">
        <color rgba="0 0 0 1"/>
      </material>
    </visual>
    <collision>
      <origin rpy="0 0 0" xyz="0.020 0 0"/>
      <geometry>
        <mesh filename="package://hera_description/meshes/gripper_meshes/collision/link_0.STL" scale="0.7 0.7 0.7"/>
      </geometry>
      <material name="yellow">
        <color rgba="0 1 1 1"/>
      </material>
    </collision>
    <inertial>
      <origin rpy="0 0 0" xyz="0 0 0"/>
      <mass value="0.05"/>
      <inertia ixx="0.01" ixy="-0.00002" ixz="0.00001" iyy="0.0008" iyz="0" izz="0.001"/>
    </inertial>
  </link>
  <link name="finger_middle_link_1">
    <visual>
      <origin rpy="0 0 -0.52" xyz="0.050 -.028 0"/>
      <geometry>
        <mesh filename="package://hera_description/meshes/gripper_meshes/visual/link_1.dae" scale="0.7 0.7 0.7"/>
      </geometry>
      <material name="light grey"/>
    </visual>
    <collision>
      <origin rpy="0 0 -0.52" xyz="0.050 -.028 0"/>
      <geometry>
        <mesh filename="package://hera_description/meshes/gripper_meshes/collision/link_1.STL" scale="0.7 0.7 0.7"/>
      </geometry>
      <material name="yellow"/>
    </collision>
    <inertial>
      <origin rpy="0 0 0" xyz="0 0 0"/>
      <mass value="0.15"/>
      <inertia ixx="0.001859" ixy="-0.000376" ixz="0.000028" iyy="0.012756" iyz="0" izz="0.0024"/>
    </inertial>
  </link>
  <link name="finger_middle_link_2">
    <!--
			NOTE: This link has an offset in the z-direction based on the models that were
			used to generate grap-it poses.  With the offset below the model appears visually
			correct, but it is suspect.
			-->
    <visual>
      <origin rpy="0 0 0" xyz="0.039 0 0.0075"/>
      <geometry>
        <mesh filename="package://hera_description/meshes/gripper_meshes/visual/link_2.dae" scale="0.7 0.7 0.7"/>
      </geometry>
      <material name="light grey"/>
    </visual>
    <collision>
      <origin rpy="0 0 0" xyz="0.039 0 0.0075"/>
      <geometry>
        <mesh filename="package://hera_description/meshes/gripper_meshes/collision/link_2.STL" scale="0.7 0.7 0.7"/>
      </geometry>
      <material name="yellow"/>
    </collision>
    <inertial>
      <origin rpy="0 0 0" xyz="0 0 0"/>
      <mass value="0.15"/>
      <inertia ixx="0.001859" ixy="-0.000376" ixz="0.000028" iyy="0.012756" iyz="0" izz="0.0024"/>
    </inertial>
  </link>
  <link name="finger_middle_link_3">
    <visual>
      <origin rpy="0 0 0.52" xyz="0 0 0"/>
      <geometry>
        <mesh filename="package://hera_description/meshes/gripper_meshes/visual/link_3.dae" scale="0.7 0.7 0.7"/>
      </geometry>
      <material name="light grey"/>
    </visual>
    <collision>
      <origin rpy="0 0 0.52" xyz="0 0 0"/>
      <geometry>
        <mesh filename="package://hera_description/meshes/gripper_meshes/collision/link_3.STL" scale="0.7 0.7 0.7"/>
      </geometry>
      <material name="yellow"/>
    </collision>
    <inertial>
      <origin rpy="0 0 0" xyz="0 0 0"/>
      <mass value="0.05"/>
      <inertia ixx="0.001239" ixy="-0.000251" ixz="0.000019" iyy="0.00085" iyz="0" izz="0.001632"/>
    </inertial>
  </link>
  <!-- end of link list -->
  <!-- joint list -->
  <joint name="finger_middle_joint_1" type="revolute">
    <parent link="finger_middle_link_0"/>
    <child link="finger_middle_link_1"/>
    <axis xyz="0 0 1"/>
    <origin rpy="0 0 0" xyz="0.01 0.0 0"/>
    <limit effort="100" lower="-0.6503" upper="1.0" velocity="100"/>
  </joint>
  <joint name="finger_middle_joint_2" type="revolute">
    <parent link="finger_middle_link_1"/>
    <child link="finger_middle_link_2"/>
    <axis xyz="0 0 1"/>
    <origin rpy="0 0 -0.52" xyz="0.04 -0.025 0"/>
    <limit effort="100" lower="-0.2787" upper="1.0" velocity="100"/>
  </joint>
  <joint name="finger_middle_joint_3" type="fixed">
    <parent link="finger_middle_link_2"/>
    <child link="finger_middle_link_3"/>
    <axis xyz="0 0 1"/>
    <origin rpy="0 0 0" xyz="0.039 0 0"/>
  </joint>
  <!-- end of joint list -->
  <!-- link list -->
  <link name="palm">
    <visual>
      <geometry>
        <mesh filename="package://hera_description/meshes/gripper_meshes/visual/palm.dae" scale="0.7 0.7 0.7"/>
      </geometry>
      <material name="white">
        <color rgba="0 0 0 1"/>
      </material>
    </visual>
    <collision>
      <geometry>
        <mesh filename="package://hera_description/meshes/gripper_meshes/collision/palm.STL" scale="0.7 0.7 0.7"/>
      </geometry>
      <material name="yellow">
        <color rgba="0 1 1 1"/>
      </material>
    </collision>
  </link>
  <link name="tool0"/>
  <inertial>
    <origin rpy="0 0 0" xyz="0 0 0"/>
    <mass value="1.3"/>
    <inertia ixx="0.006012" ixy="0.000079" ixz="-0.00024" iyy="0.012892" iyz="0" izz="0.002435"/>
  </inertial>
  <!-- end of link list -->
  <!-- joint list -->
  <joint name="joint_palm" type="fixed">
    <origin rpy="0 0 -1.57" xyz="0.078 0 0"/>
    <parent link="link_6"/>
    <child link="palm"/>
  </joint>
  <joint name="palm_finger_1_joint" type="fixed">
    <parent link="palm"/>
    <child link="finger_1_link_0"/>
    <origin rpy="0 3.1416 -1.57" xyz="-0.0255 0.01 0.0225"/>
  </joint>
  <joint name="palm_finger_2_joint" type="fixed">
    <parent link="palm"/>
    <child link="finger_2_link_0"/>
    <origin rpy="0 3.1416 -1.57" xyz="-0.0255 0.01 -0.0225"/>
  </joint>
  <joint name="palm_finger_middle_joint" type="fixed">
    <parent link="palm"/>
    <child link="finger_middle_link_0"/>
    <origin rpy="0 0 1.57" xyz="0.0255 0.01 0"/>
  </joint>
  <joint name="palm_tool0" type="fixed">
    <parent link="palm"/>
    <child link="tool0"/>
    <origin rpy="0 0 1.5707" xyz="0.0 0.0875 0.0"/>
  </joint>
  <!-- end of joint list -->
  <transmission name="trans_1">
    <type>transmission_interface/SimpleTransmission</type>
    <joint name="joint_1">
      <hardwareInterface>hardware_interface/PositionJointInterface</hardwareInterface>
    </joint>
    <actuator name="joint_1_motor">
      <hardwareInterface>hardware_interface/PositionJointInterface</hardwareInterface>
      <mechanicalReduction>1</mechanicalReduction>
    </actuator>
  </transmission>
  <transmission name="trans_2">
    <type>transmission_interface/SimpleTransmission</type>
    <joint name="joint_2">
      <hardwareInterface>hardware_interface/PositionJointInterface</hardwareInterface>
    </joint>
    <actuator name="joint_2_motor">
      <hardwareInterface>hardware_interface/PositionJointInterface</hardwareInterface>
      <mechanicalReduction>1</mechanicalReduction>
    </actuator>
  </transmission>
  <transmission name="trans_3">
    <type>transmission_interface/SimpleTransmission</type>
    <joint name="joint_3">
      <hardwareInterface>hardware_interface/PositionJointInterface</hardwareInterface>
    </joint>
    <actuator name="joint_3_motor">
      <hardwareInterface>hardware_interface/PositionJointInterface</hardwareInterface>
      <mechanicalReduction>1</mechanicalReduction>
    </actuator>
  </transmission>
  <transmission name="trans_4">
    <type>transmission_interface/SimpleTransmission</type>
    <joint name="joint_4">
      <hardwareInterface>hardware_interface/PositionJointInterface</hardwareInterface>
    </joint>
    <actuator name="joint_4_motor">
      <hardwareInterface>hardware_interface/PositionJointInterface</hardwareInterface>
      <mechanicalReduction>1</mechanicalReduction>
    </actuator>
  </transmission>
  <transmission name="trans_5">
    <type>transmission_interface/SimpleTransmission</type>
    <joint name="joint_5">
      <hardwareInterface>hardware_interface/PositionJointInterface</hardwareInterface>
    </joint>
    <actuator name="joint_5_motor">
      <hardwareInterface>hardware_interface/PositionJointInterface</hardwareInterface>
      <mechanicalReduction>1</mechanicalReduction>
    </actuator>
  </transmission>
  <transmission name="trans_6">
    <type>transmission_interface/SimpleTransmission</type>
    <joint name="joint_6">
      <hardwareInterface>hardware_interface/PositionJointInterface</hardwareInterface>
    </joint>
    <actuator name="joint_6_motor">
      <hardwareInterface>hardware_interface/PositionJointInterface</hardwareInterface>
      <mechanicalReduction>1</mechanicalReduction>
    </actuator>
  </transmission>
  <!--##################### GRIPPER ########################-->
  <transmission name="trans_gripper_1">
    <type>transmission_interface/SimpleTransmission</type>
    <joint name="finger_1_joint_1">
      <hardwareInterface>hardware_interface/PositionJointInterface</hardwareInterface>
    </joint>
    <actuator name="finger_1_joint_1_motor">
      <hardwareInterface>hardware_interface/PositionJointInterface</hardwareInterface>
      <mechanicalReduction>1</mechanicalReduction>
    </actuator>
  </transmission>
  <transmission name="trans_gripper_2">
    <type>transmission_interface/SimpleTransmission</type>
    <joint name="finger_1_joint_2">
      <hardwareInterface>hardware_interface/PositionJointInterface</hardwareInterface>
    </joint>
    <actuator name="finger_1_joint_2_motor">
      <hardwareInterface>hardware_interface/PositionJointInterface</hardwareInterface>
      <mechanicalReduction>1</mechanicalReduction>
    </actuator>
  </transmission>
  <transmission name="trans_gripper_3">
    <type>transmission_interface/SimpleTransmission</type>
    <joint name="finger_2_joint_1">
      <hardwareInterface>hardware_interface/PositionJointInterface</hardwareInterface>
    </joint>
    <actuator name="finger_2_joint_1_motor">
      <hardwareInterface>hardware_interface/PositionJointInterface</hardwareInterface>
      <mechanicalReduction>1</mechanicalReduction>
    </actuator>
  </transmission>
  <transmission name="trans_gripper_4">
    <type>transmission_interface/SimpleTransmission</type>
    <joint name="finger_2_joint_2">
      <hardwareInterface>hardware_interface/PositionJointInterface</hardwareInterface>
    </joint>
    <actuator name="finger_2_joint_2_motor">
      <hardwareInterface>hardware_interface/PositionJointInterface</hardwareInterface>
      <mechanicalReduction>1</mechanicalReduction>
    </actuator>
  </transmission>
  <transmission name="trans_gripper_5">
    <type>transmission_interface/SimpleTransmission</type>
    <joint name="finger_middle_joint_1">
      <hardwareInterface>hardware_interface/PositionJointInterface</hardwareInterface>
    </joint>
    <actuator name="finger_middle_joint_1_motor">
      <hardwareInterface>hardware_interface/PositionJointInterface</hardwareInterface>
      <mechanicalReduction>1</mechanicalReduction>
    </actuator>
  </transmission>
  <transmission name="trans_gripper_5">
    <type>transmission_interface/SimpleTransmission</type>
    <joint name="finger_middle_joint_2">
      <hardwareInterface>hardware_interface/PositionJointInterface</hardwareInterface>
    </joint>
    <actuator name="finger_middle_joint_2_motor">
      <hardwareInterface>hardware_interface/PositionJointInterface</hardwareInterface>
      <mechanicalReduction>1</mechanicalReduction>
    </actuator>
  </transmission>
  <!-- ####################################################################### -->
  <!-- ####################### gazebo extensions ##############################-->
  <!-- ####################################################################### -->
  <gazebo>
    <plugin filename="libgazebo_ros_planar_move.so" name="base_controller">
      <commandTopic>cmd_vel</commandTopic>
      <odometryTopic>odom</odometryTopic>
      <odometryFrame>odom</odometryFrame>
      <odometryRate>100.0</odometryRate>
      <robotBaseFrame>base_footprint</robotBaseFrame>
    </plugin>
  </gazebo>
  <gazebo reference="base_scan_front">
    <sensor name="base_scan_front" type="ray">
      <always_on>true</always_on>
      <update_rate>30</update_rate>
      <visualize>true</visualize>
      <ray>
        <scan>
          <horizontal>
            <samples>150</samples>
            <resolution>1.0</resolution>
            <min_angle>-1.45</min_angle>
            <max_angle>1.45</max_angle>
          </horizontal>
        </scan>
        <range>
          <min>0.08</min>
          <max>30.0</max>
          <resolution>0.01</resolution>
        </range>
      </ray>
      <plugin filename="libgazebo_ros_laser.so" name="gazebo_ros_base_scan_front_controller">
        <gaussianNoise>0.005</gaussianNoise>
        <alwaysOn>true</alwaysOn>
        <updateRate>30</updateRate>
        <topicName>base_scan_front</topicName>
        <frameName>base_scan_front</frameName>
      </plugin>
    </sensor>
  </gazebo>
  <gazebo reference="base_scan_back">
    <sensor name="base_scan_back" type="ray">
      <always_on>true</always_on>
      <update_rate>30</update_rate>
      <visualize>true</visualize>
      <ray>
        <scan>
          <horizontal>
            <samples>150</samples>
            <resolution>1.0</resolution>
            <min_angle>-1.45</min_angle>
            <max_angle>1.45</max_angle>
          </horizontal>
        </scan>
        <range>
          <min>0.05</min>
          <max>5.6</max>
          <resolution>0.36</resolution>
        </range>
      </ray>
      <plugin filename="libgazebo_ros_laser.so" name="gazebo_ros_base_scan_back_controller">
        <gaussianNoise>0.005</gaussianNoise>
        <alwaysOn>true</alwaysOn>
        <updateRate>30</updateRate>
        <topicName>base_scan_back</topicName>
        <frameName>base_scan_back</frameName>
      </plugin>
    </sensor>
  </gazebo>
  <gazebo reference="xtion">
    <sensor name="xtion" type="depth">
      <always_on>true</always_on>
      <visualize>true</visualize>
      <update_rate>30</update_rate>
      <camera>
        <horizontal_fov>1.09606677025</horizontal_fov>
        <image>
          <format>R8G8B8</format>
          <width>32.0</width>
          <height>24.0</height>
        </image>
        <clip>
          <near>0.8</near>
          <far>3.5</far>
        </clip>
      </camera>
      <plugin filename="libgazebo_ros_openni_kinect.so" name="xtion_camera_controller">
        <alwaysOn>true</alwaysOn>
        <updateRate>30</updateRate>
        <cameraName>xtion</cameraName>
        <frameName>xtion_optical</frameName>
        <depthImageTopicName>depth/image_raw</depthImageTopicName>
        <depthImageCameraInfoTopicName>depth/camera_info</depthImageCameraInfoTopicName>
        <pointCloudTopicName>depth/points</pointCloudTopicName>
        <pointCloudCutoff>0.4</pointCloudCutoff>
        <hackBaseline>0.07</hackBaseline>
        <distortionK1>0.0</distortionK1>
        <distortionK2>0.0</distortionK2>
        <distortionK3>0.0</distortionK3>
        <distortionT1>0.0</distortionT1>
        <distortionT2>0.0</distortionT2>
        <CxPrime>0.0</CxPrime>
        <Cx>0.0</Cx>
        <Cy>0.0</Cy>
        <focalLength>0.0</focalLength>
      </plugin>
    </sensor>
  </gazebo>
  <gazebo reference="kinect_one">
    <sensor name="kinect_one" type="depth">
      <always_on>1</always_on>
      <visualize>true</visualize>
      <camera>
        <horizontal_fov>1.0471975512</horizontal_fov>
        <image>
          <format>R8G8B8</format>
          <width>1280</width>
          <height>720</height>
        </image>
        <clip>
          <near>0.4</near>
          <far>10</far>
        </clip>
      </camera>
      <plugin filename="libgazebo_ros_openni_kinect.so" name="{reference}_camera_controller">
        <alwaysOn>true</alwaysOn>
        <updateRate>30</updateRate>
        <cameraName>kinect_one</cameraName>
        <frameName>kinect_one_optical</frameName>
        <cameraInfoTopicName>rgb/camera_info</cameraInfoTopicName>
        <imageTopicName>rgb/image_raw</imageTopicName>
        <depthImageTopicName>depth/image_raw</depthImageTopicName>
        <depthImageCameraInfoTopicName>depth/camera_info</depthImageCameraInfoTopicName>
        <pointCloudTopicName>depth/points</pointCloudTopicName>
        <pointCloudCutoff>0.4</pointCloudCutoff>
        <hackBaseline>0.07</hackBaseline>
        <distortionK1>0.0</distortionK1>
        <distortionK2>0.0</distortionK2>
        <distortionK3>0.0</distortionK3>
        <distortionT1>0.0</distortionT1>
        <distortionT2>0.0</distortionT2>
        <CxPrime>0.0</CxPrime>
        <Cx>0.0</Cx>
        <Cy>0.0</Cy>
        <focalLength>0.0</focalLength>
      </plugin>
    </sensor>
  </gazebo>
  <gazebo>
    <plugin filename="libgazebo_ros_control.so" name="gazebo_ros_control">
      <robotNamespace>/kinect</robotNamespace>
      <robotSimType>gazebo_ros_control/DefaultRobotHWSim</robotSimType>
    </plugin>
  </gazebo>
  <gazebo>
    <plugin filename="libgazebo_ros_control.so" name="gazebo_ros_control">
      <robotNamespace>/manip</robotNamespace>
      <robotSimType>gazebo_ros_control/DefaultRobotHWSim</robotSimType>
    </plugin>
  </gazebo>
</robot>
